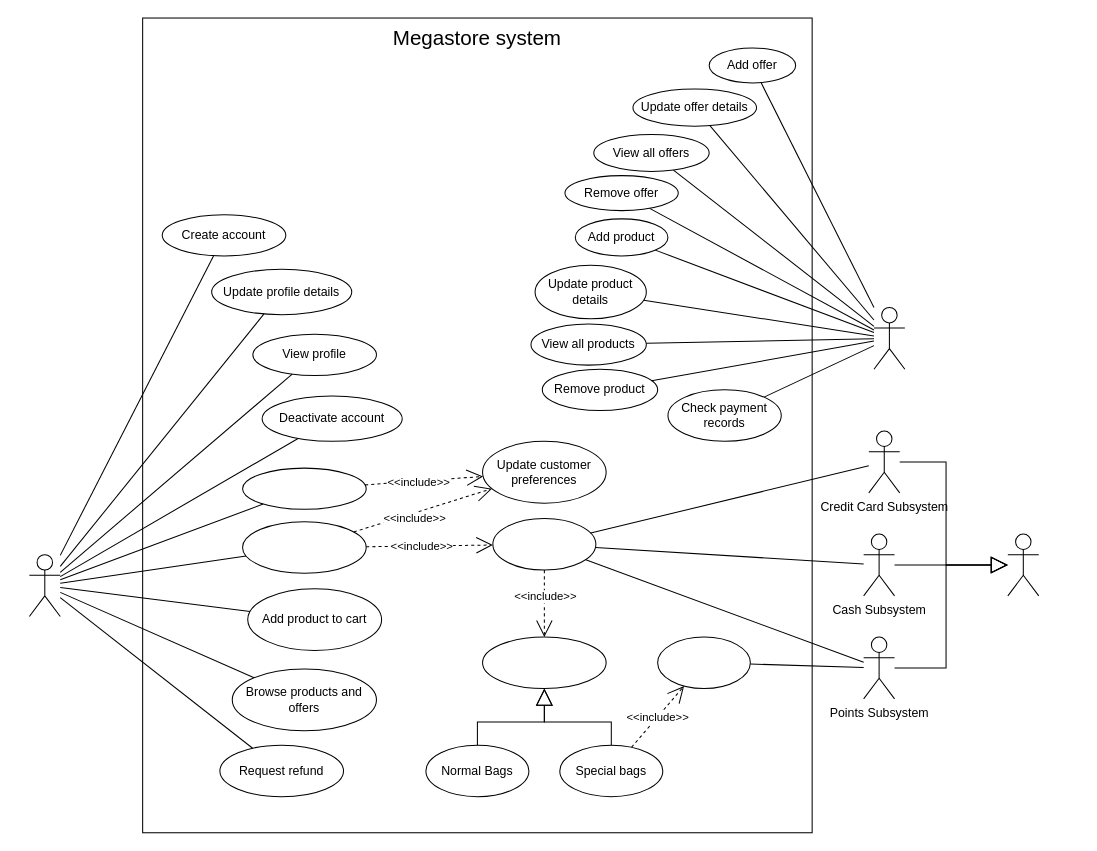
This 1097x851 diagram has some shape labels left out. The centre of each missing label's shape, as x and y in pixels:
Admin: the point at 889,337
Checkout: the point at 544,544
Customer: the point at 44,585
Gain points: the point at 703,662
Make purchase: the point at 304,547
Package order: the point at 544,662
Payment Subsystem: the point at 1023,564
Search products: the point at 304,488
